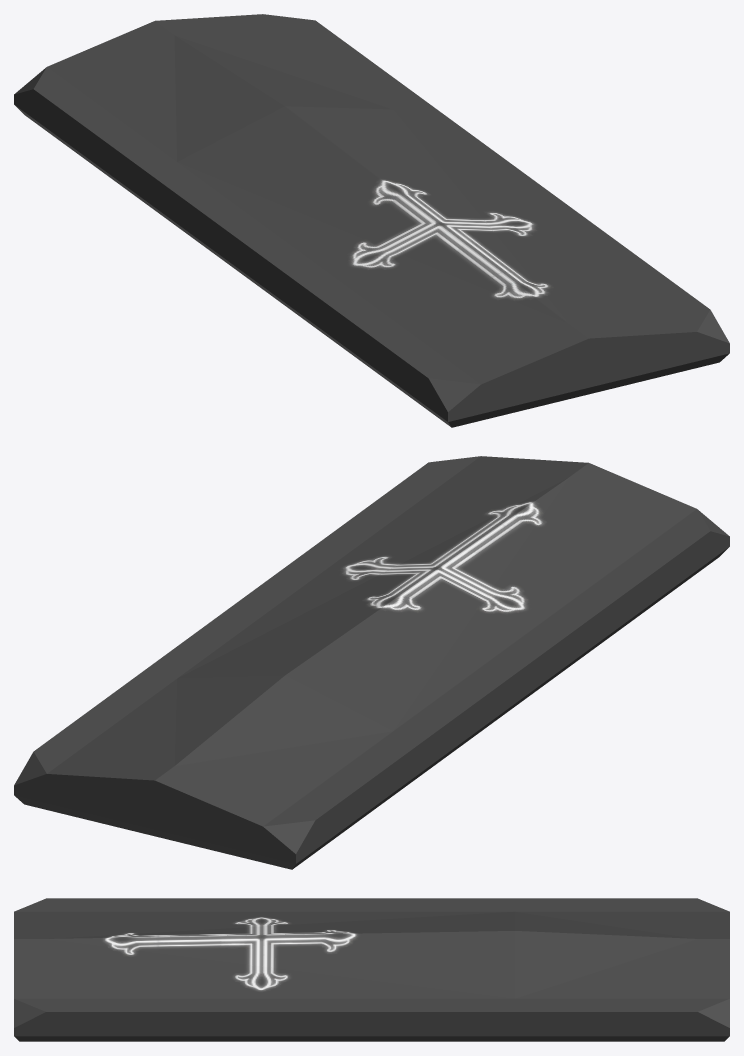
The model's file is CoffinTop.obj.
The picture shows the model from 3 angles, top to bottom: view 1: azimuth 30°, elevation 25°; view 2: azimuth 150°, elevation 25°; view 3: azimuth 270°, elevation 25°; orthographic projection. The views are drawn at different scales.
Visible parts, largest first — view 1: 立方体.001; view 2: 立方体.001; view 3: 立方体.001.
Boxes of the visible parts, x1,y1,x2,y2 form: 立方体.001: (14,14,729,427); 立方体.001: (14,456,729,869); 立方体.001: (14,898,729,1041).
Size of the model in its own units: 3 by 0.7 by 8.
Materials: 1 (1 with a texture image).
